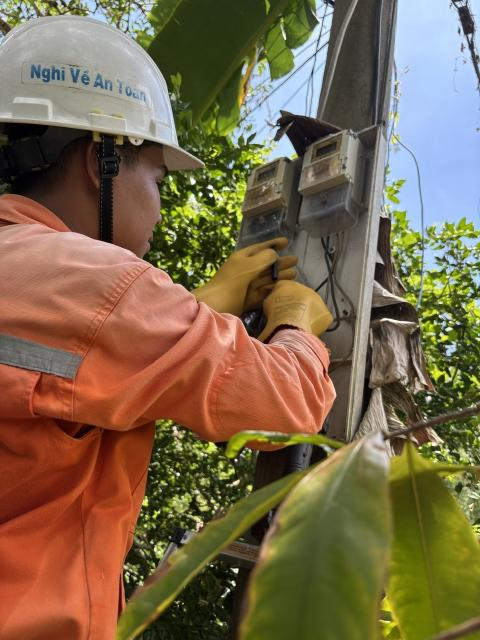gloves: (186, 235, 288, 323), (267, 275, 347, 343)
helmet: (0, 0, 212, 207)
